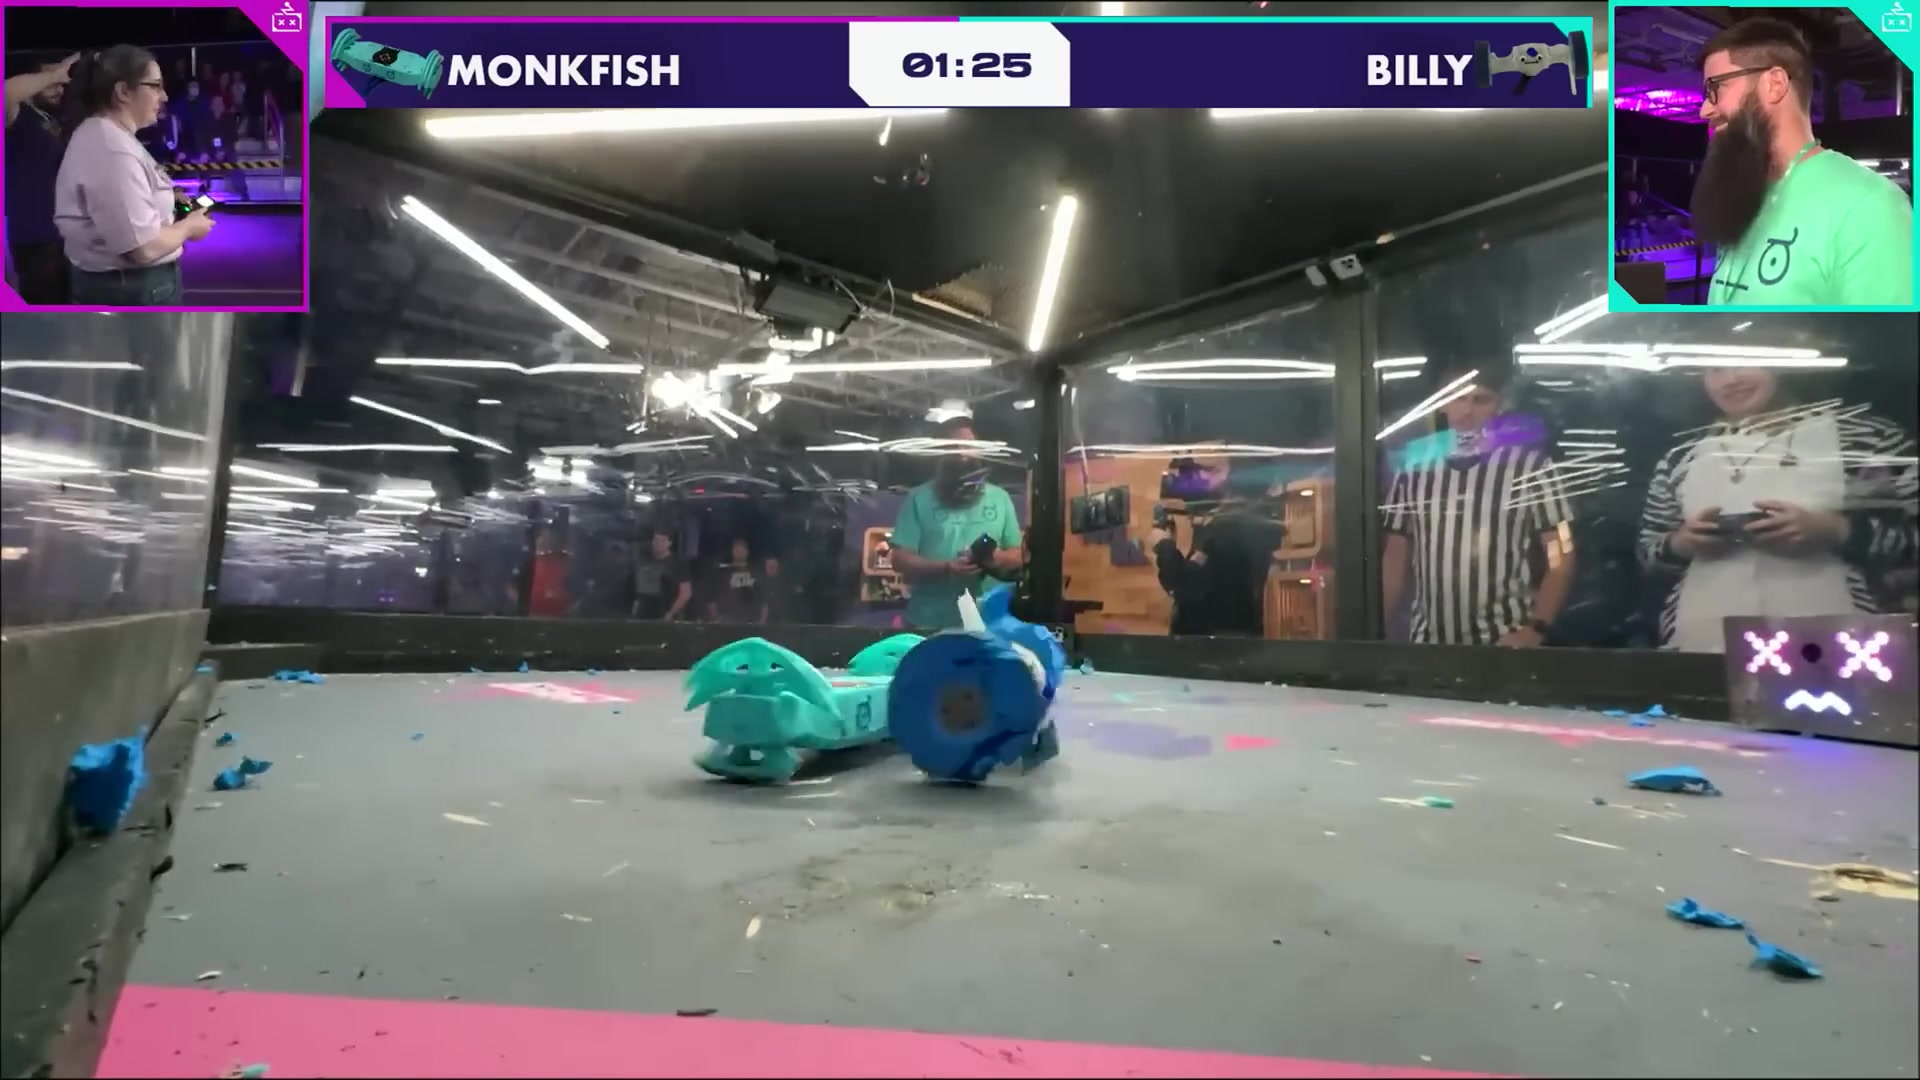combatbot: (684, 633, 928, 775), (887, 587, 1064, 783)
debris: (74, 737, 132, 835)
housebot: (1721, 612, 1920, 740)
